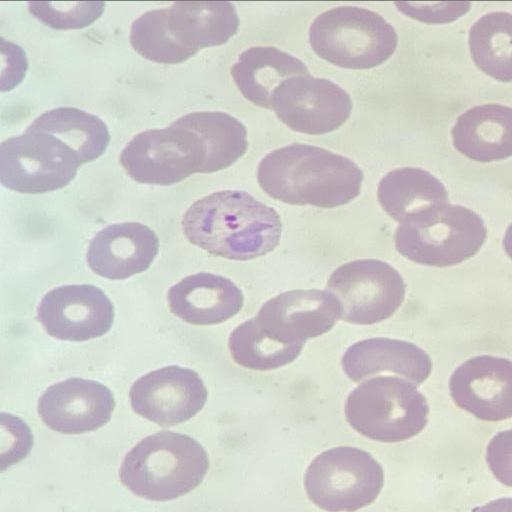Infected: (181, 188, 278, 259)
Uninfected: (257, 143, 360, 207), (120, 431, 209, 501), (394, 202, 484, 266), (344, 375, 427, 442), (310, 5, 398, 68), (325, 258, 404, 325), (0, 130, 82, 194), (231, 45, 314, 108), (24, 105, 109, 166), (304, 447, 382, 511), (269, 74, 350, 134), (128, 364, 206, 426), (169, 111, 247, 173), (121, 127, 204, 182), (258, 289, 339, 344), (84, 221, 156, 282), (37, 283, 112, 341), (228, 316, 307, 371), (37, 377, 112, 433), (167, 270, 243, 325), (342, 336, 429, 384), (129, 7, 202, 64), (377, 166, 450, 220), (162, 1, 237, 48)
